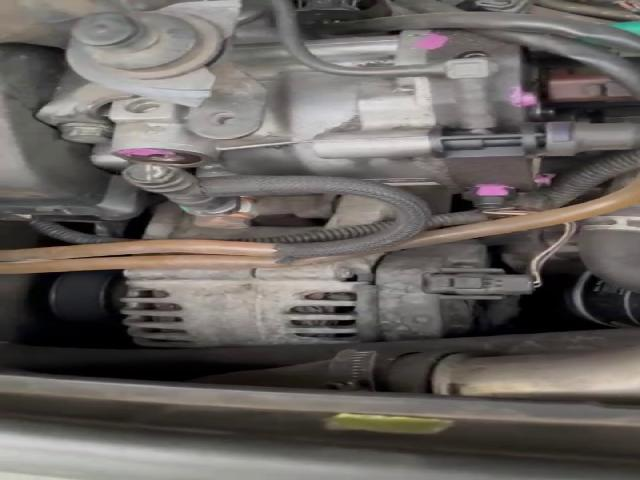alternator: (121, 255, 379, 347)
high_pressure_pump: (97, 30, 565, 203)
